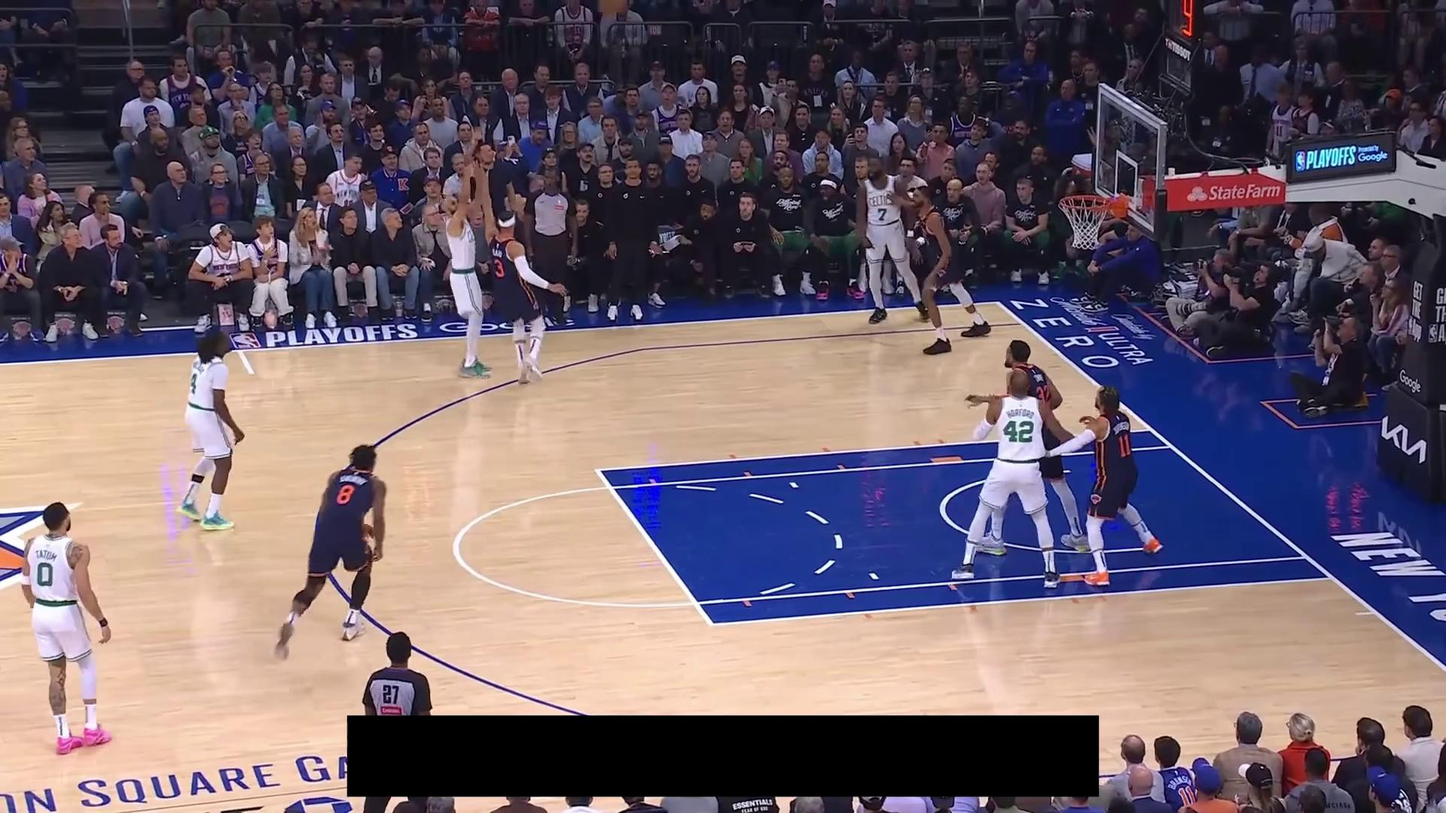ball: (597, 0, 630, 15)
number: (1003, 419, 1034, 443), (36, 562, 53, 588), (1035, 382, 1052, 406), (336, 484, 355, 505), (1117, 433, 1130, 458), (495, 256, 505, 278), (189, 373, 199, 394), (876, 206, 888, 222)
player: (967, 339, 1091, 556), (950, 370, 1069, 590), (1041, 383, 1164, 588), (273, 443, 388, 662), (18, 500, 114, 757), (474, 166, 568, 385), (904, 183, 993, 356), (176, 328, 246, 532), (443, 135, 498, 379), (854, 154, 929, 325)
referee: (362, 631, 435, 813), (518, 166, 579, 327)
rim: (1059, 193, 1112, 211)
